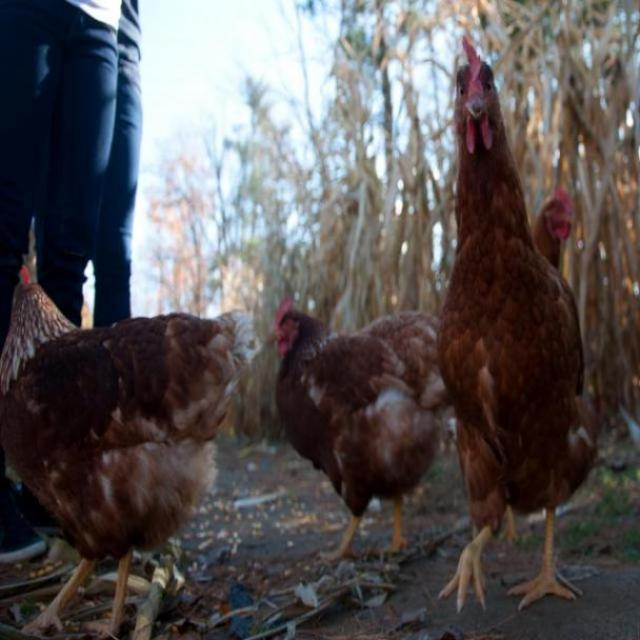Chicken: (0, 265, 260, 639), (434, 60, 595, 619), (273, 295, 452, 562)
